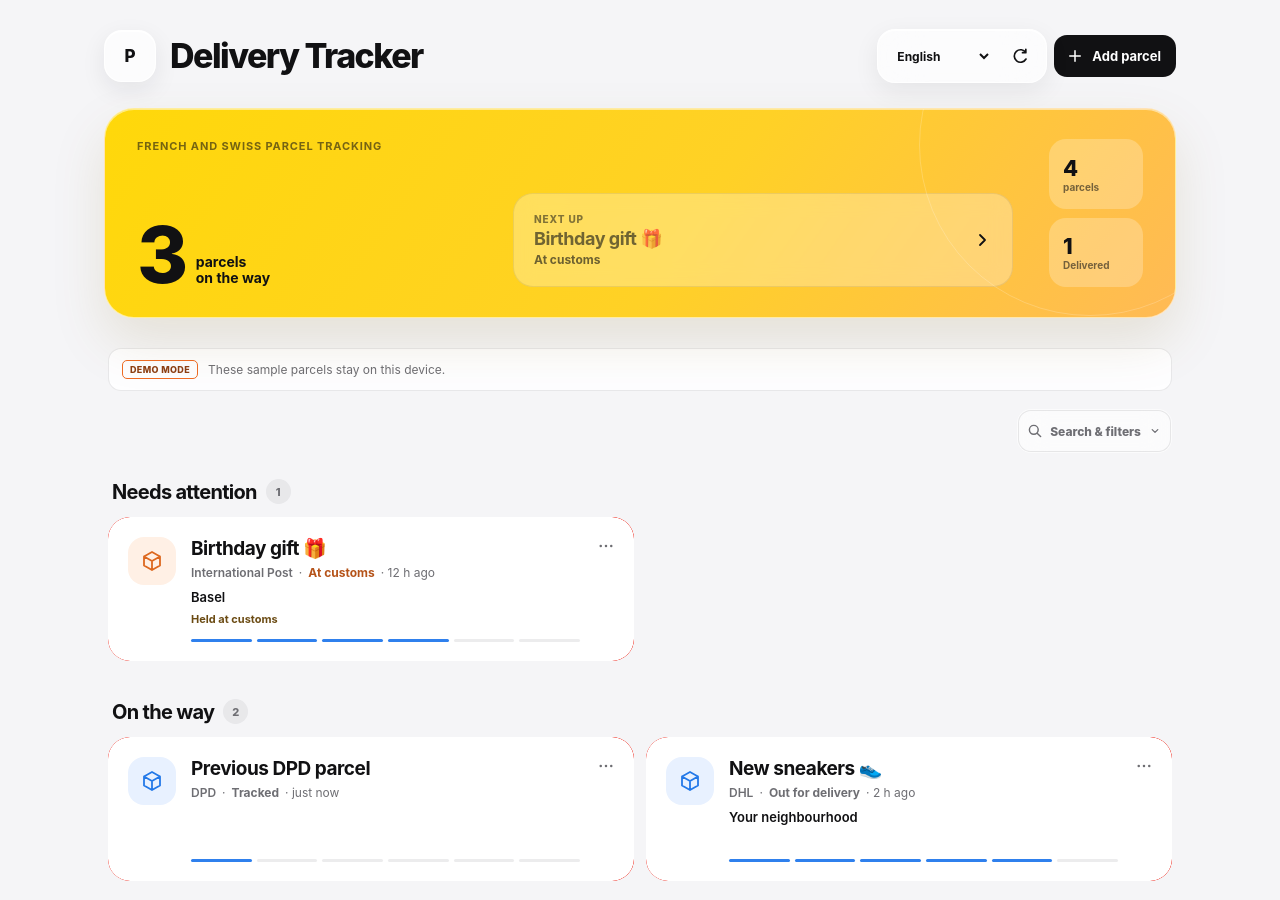
Test case: App › prefills the postcode from the newest DPD parcel
Expected: the text "Previous DPD parcel" is shown, left=191, top=757, right=370, bottom=780
Click the button with aria-label "add a parcel" at [1115, 56], box left=1054, top=35, right=1176, bottom=77
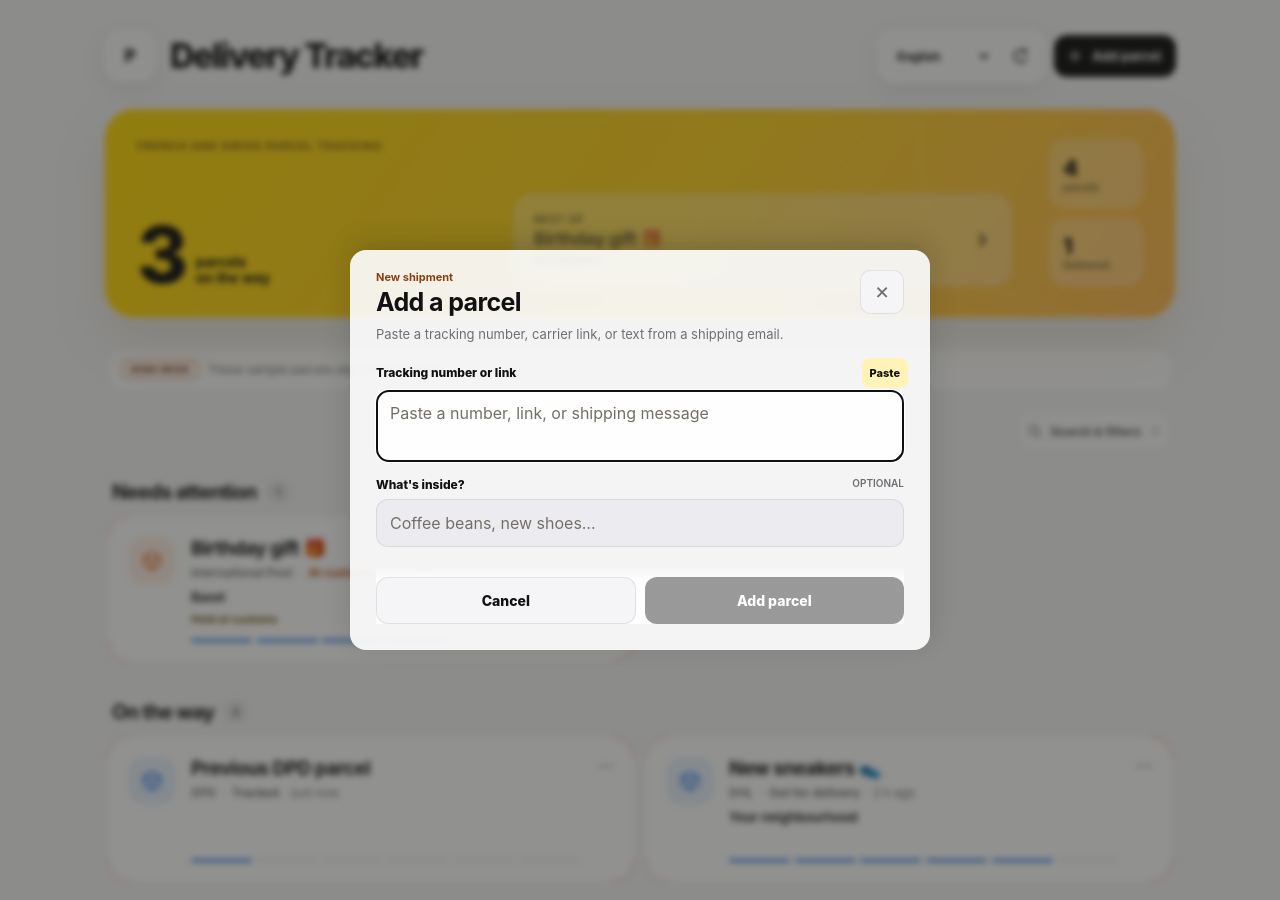
Type "06086514587083" into the text box labelled "Tracking number or link" at [640, 426], box left=376, top=390, right=904, bottom=462
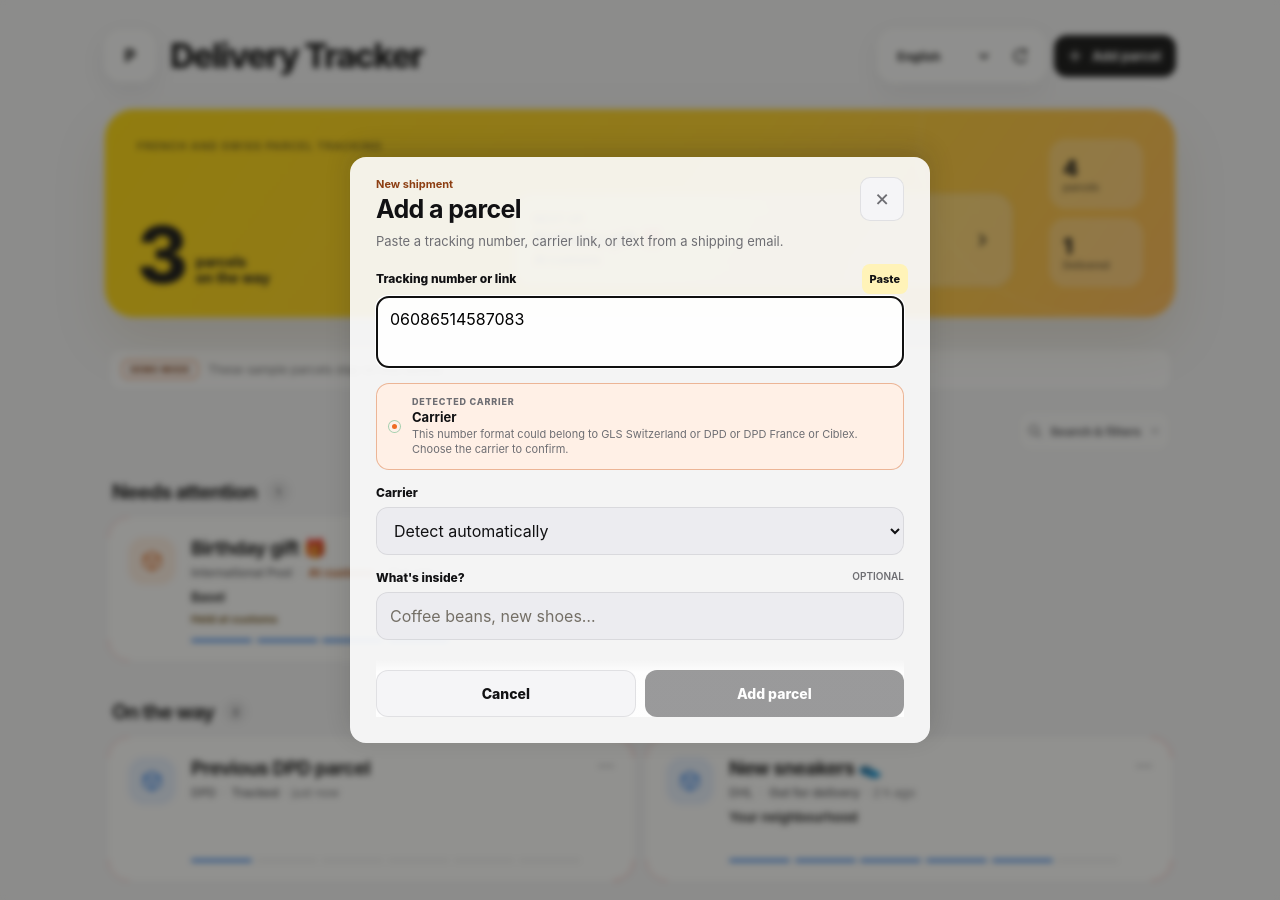
Select "DPD" in the dropdown labelled "Carrier" at [640, 531], box left=376, top=507, right=904, bottom=555
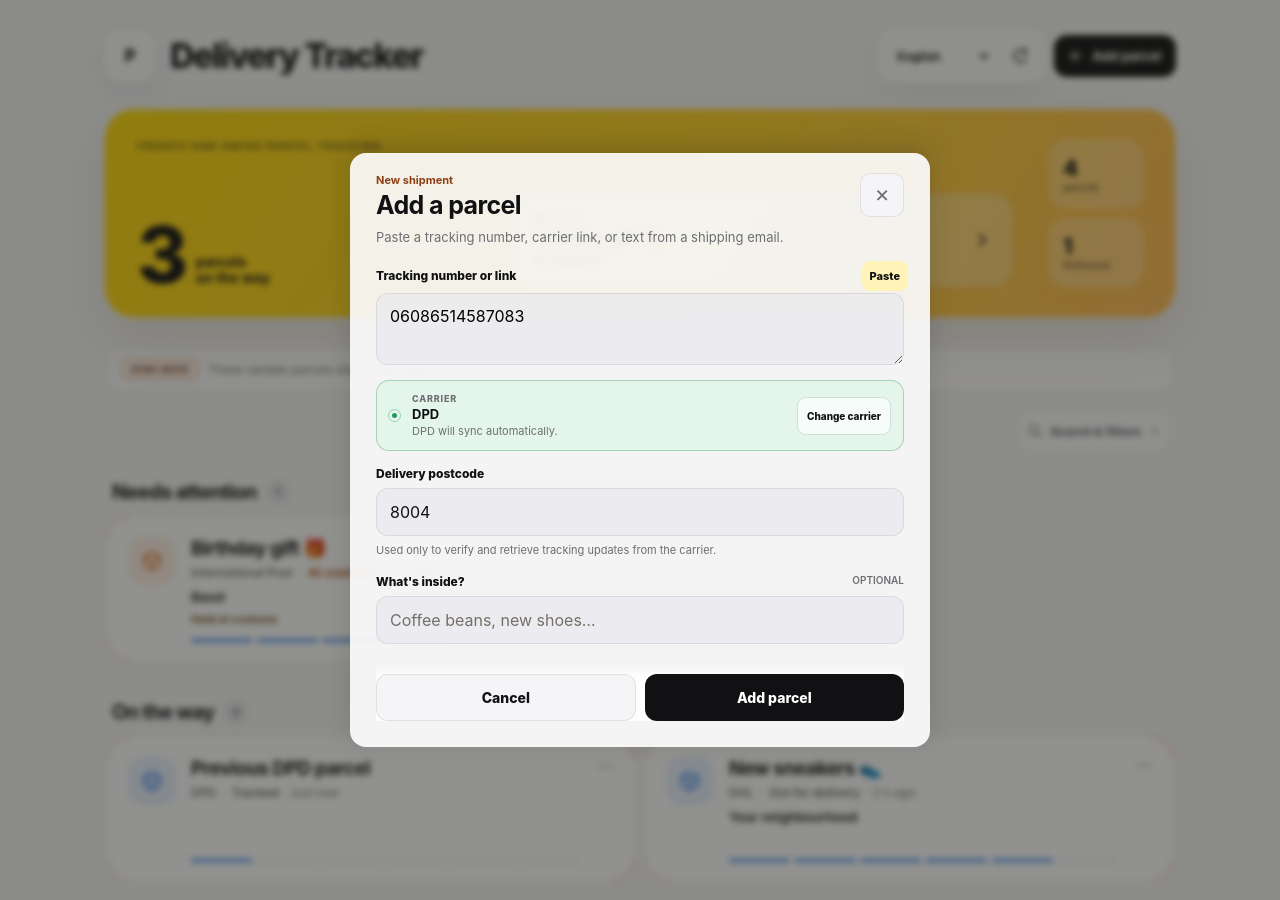
Expected: the field labelled "Delivery postcode" holds "8004", left=376, top=488, right=904, bottom=536
